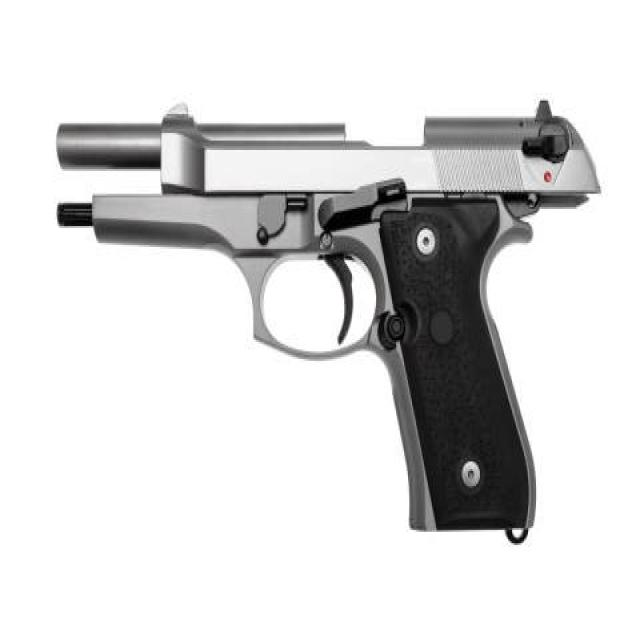pistol: (37, 98, 606, 554)
